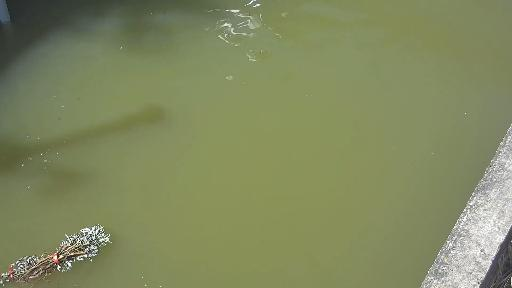twig: (1, 223, 117, 288)
